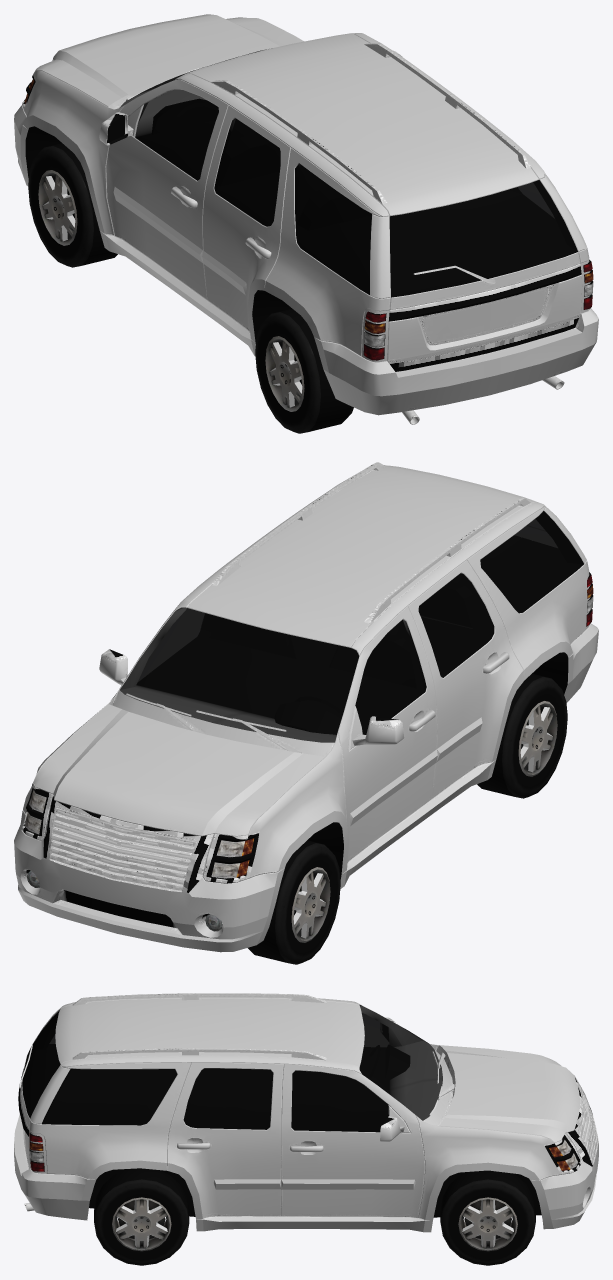
The model's file is suv.glb.
The picture shows the model from 3 angles, top to bottom: view 1: azimuth 30°, elevation 25°; view 2: azimuth 150°, elevation 25°; view 3: azimuth 270°, elevation 25°; orthographic projection. The views are drawn at different scales.
Visible parts, largest first — view 1: body, glass, wheel (×2), optics; view 2: body, glass, wheel (×2), optics; view 3: body, glass, wheel (×2), optics.
Part boxes in pixels (<box>): body: <box>14,14,598,424</box>; glass: <box>120,49,577,297</box>; wheel (×2): <box>28,143,353,433</box>; optics: <box>24,79,593,360</box>; body: <box>14,462,598,952</box>; glass: <box>120,511,583,742</box>; wheel (×2): <box>248,673,567,964</box>; optics: <box>24,572,593,931</box>; body: <box>14,993,598,1232</box>; glass: <box>22,1005,442,1132</box>; wheel (×2): <box>94,1168,535,1265</box>; optics: <box>29,1132,578,1171</box>.
Bounding box in the file's own units: 2.07 × 1.73 × 4.61.
4 materials, 3 textured.
